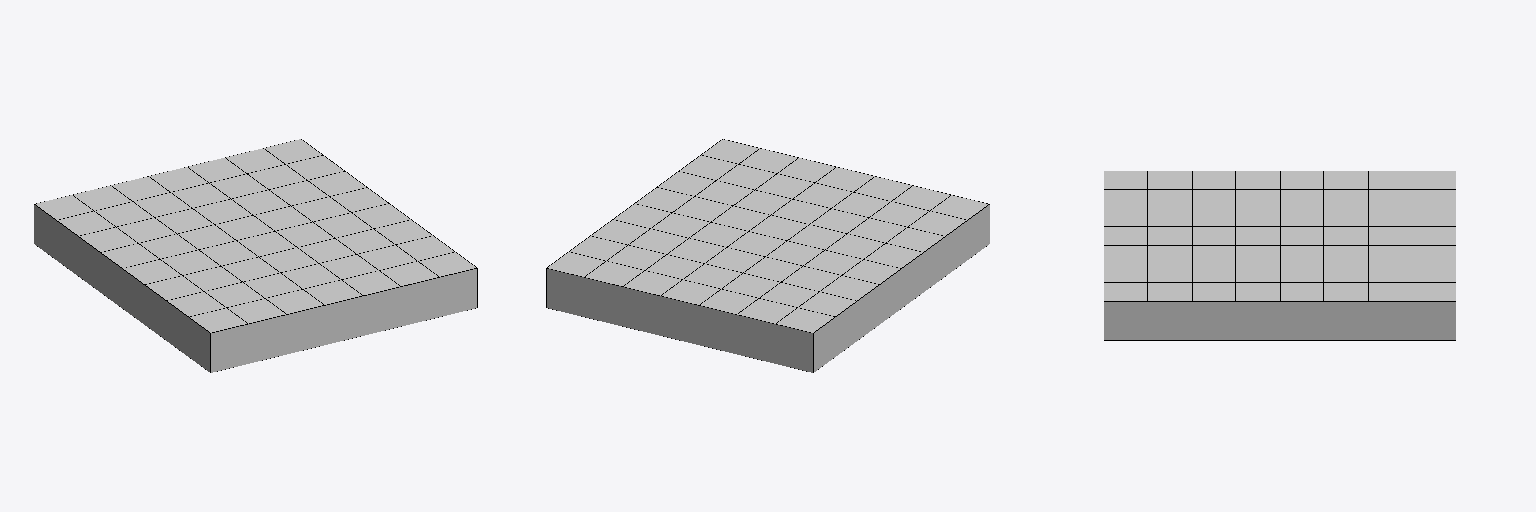
3 views of the same model, side by side, from view 1: azimuth 30°, elevation 25°; view 2: azimuth 150°, elevation 25°; view 3: azimuth 270°, elevation 25° (orthographic).
Visible parts, largest first — view 1: genertic_fllor_Cube.001; view 2: genertic_fllor_Cube.001; view 3: genertic_fllor_Cube.001.
Boxes of the visible parts, box(x1,y1,x2,y2) form: genertic_fllor_Cube.001: box(34, 139, 477, 372); genertic_fllor_Cube.001: box(546, 139, 989, 372); genertic_fllor_Cube.001: box(1104, 171, 1455, 340).
Size of the model in its own units: 14 by 2 by 16.
Materials: 1 (1 with a texture image).